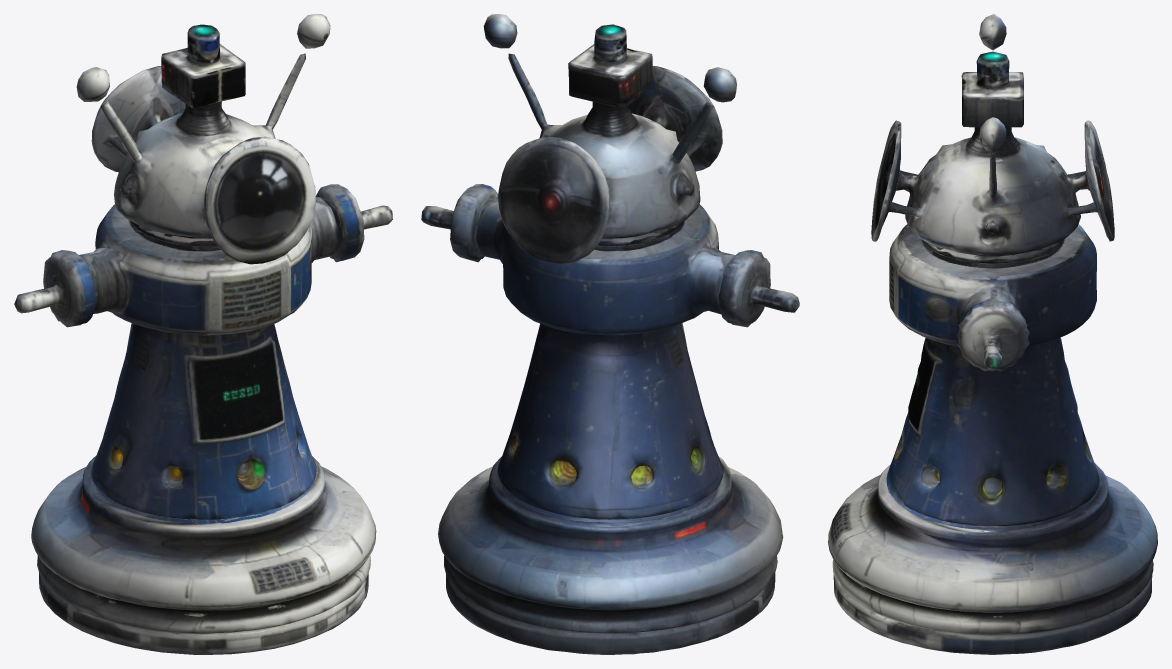
File: tinysat2.glb
The picture shows the model from 3 angles, left to right: view 1: azimuth 30°, elevation 25°; view 2: azimuth 150°, elevation 25°; view 3: azimuth 270°, elevation 25°; orthographic projection. The views are drawn at different scales.
Visible parts, largest first — view 1: Mesh1; view 2: Mesh1; view 3: Mesh1.
Part boxes in pixels (box(x1,y1,x2,y2)): Mesh1: box(14, 14, 392, 654); Mesh1: box(421, 14, 799, 654); Mesh1: box(828, 14, 1157, 654).
Size of the model in its own units: 1.42 by 2 by 1.12.
1 material, 1 textured.
